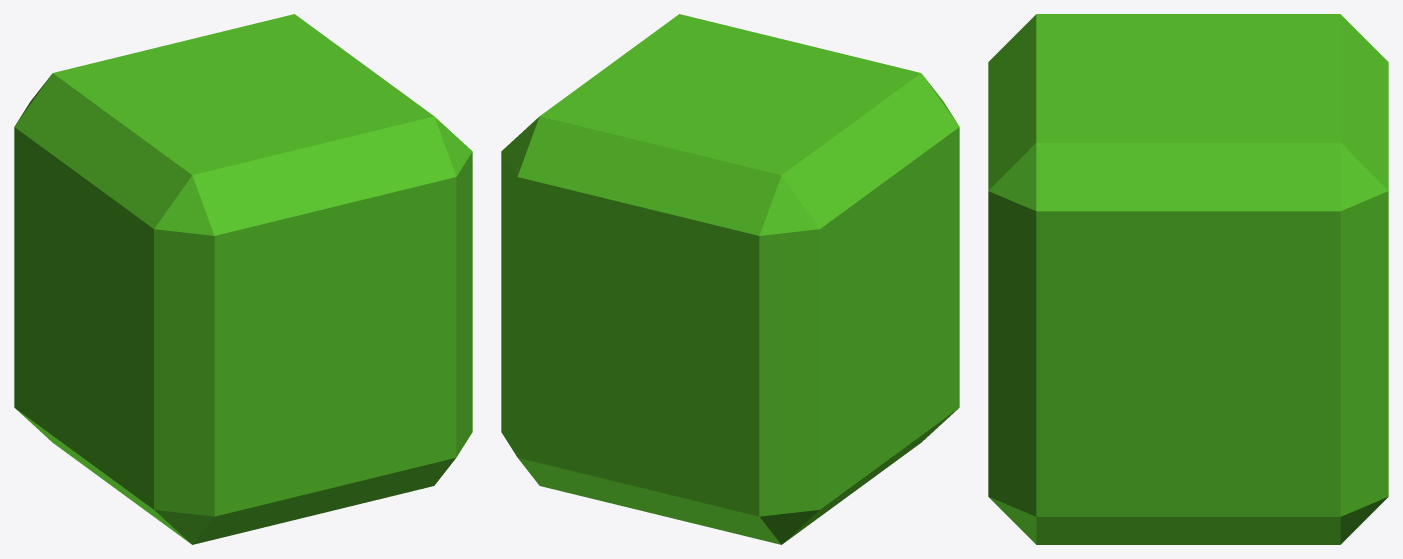
3 renders of one model, left to right at view 1: azimuth 30°, elevation 25°; view 2: azimuth 150°, elevation 25°; view 3: azimuth 270°, elevation 25°, orthographic. The views are drawn at different scales.
Visible parts, largest first — view 1: Cube; view 2: Cube; view 3: Cube.
Part boxes in pixels (x1,y1,x2,y2): Cube: [14, 14, 472, 544]; Cube: [501, 14, 959, 544]; Cube: [988, 14, 1388, 544].
Size of the model in its own units: 0.8897 by 0.9862 by 0.8897.
